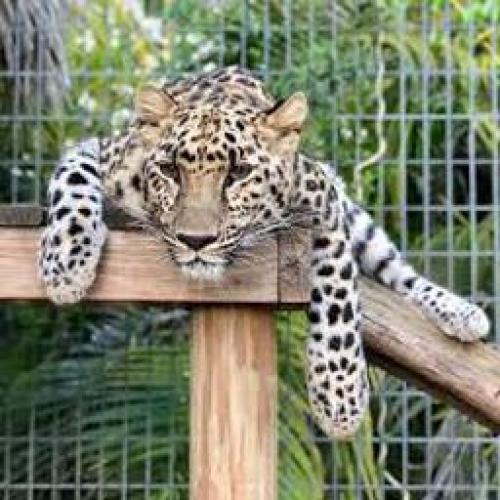amur_leopard-endangered: (37, 62, 489, 444)
